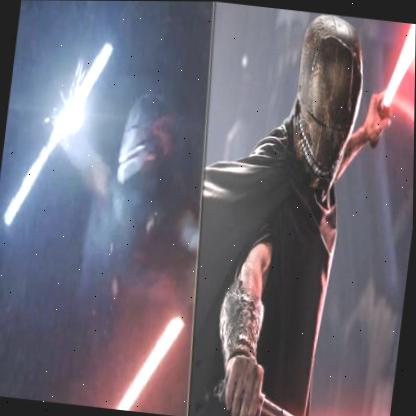lightsaber: (2, 35, 111, 235)
sith_lightsaber: (105, 273, 199, 416), (357, 19, 416, 173)
